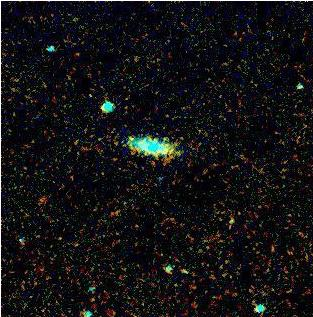star: (217, 203, 247, 233)
